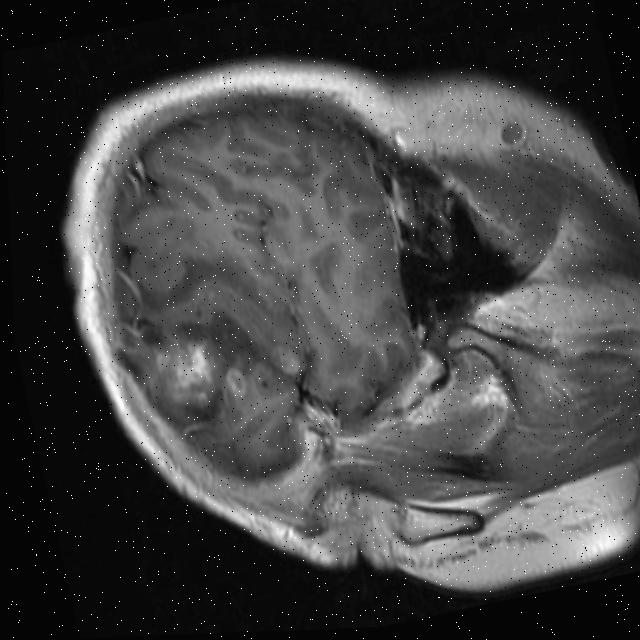Glioma: (149, 329, 225, 415), (220, 339, 309, 403)
